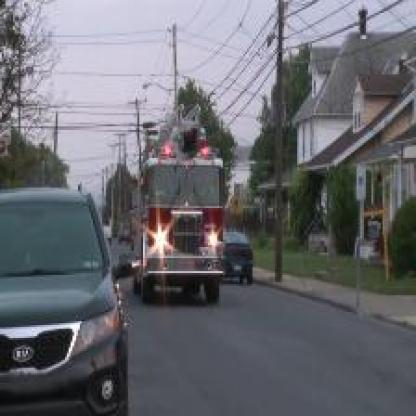other: (135, 219, 227, 265), (128, 139, 225, 159)
